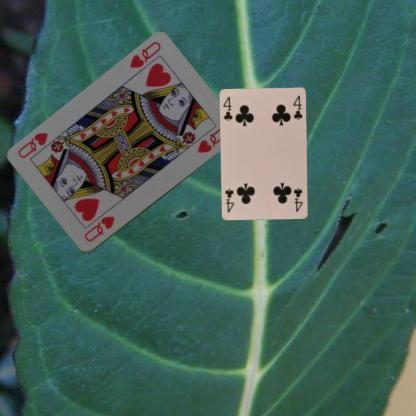4c: (291, 186, 304, 214), (221, 94, 233, 123)
Qh: (127, 39, 162, 70), (82, 213, 116, 243)
